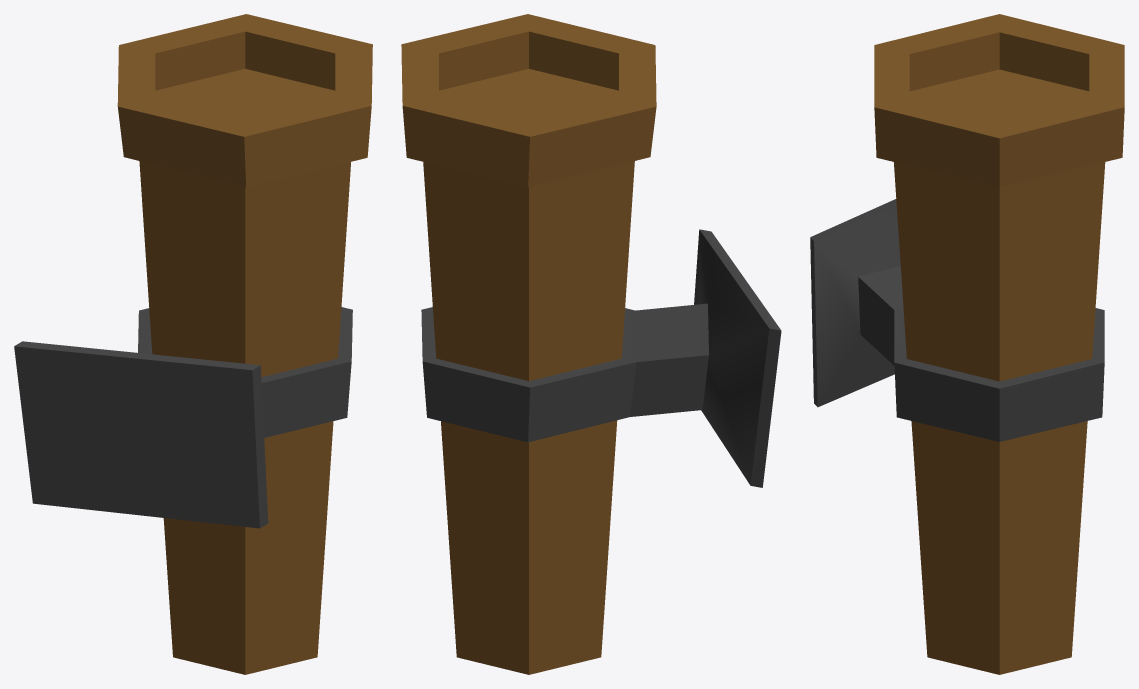
Rendered from Torch.obj.
The picture shows the model from 3 angles, left to right: view 1: azimuth 30°, elevation 25°; view 2: azimuth 150°, elevation 25°; view 3: azimuth 270°, elevation 25°; orthographic projection.
Visible parts, largest first — view 1: pCylinder1; view 2: pCylinder1; view 3: pCylinder1.
Boxes of the visible parts, left/top/right/bottom form: pCylinder1: left=14, top=14, right=372, bottom=674; pCylinder1: left=401, top=14, right=781, bottom=674; pCylinder1: left=810, top=14, right=1124, bottom=674.
Size of the model in its own units: 1.07 by 1.56 by 0.7894.
